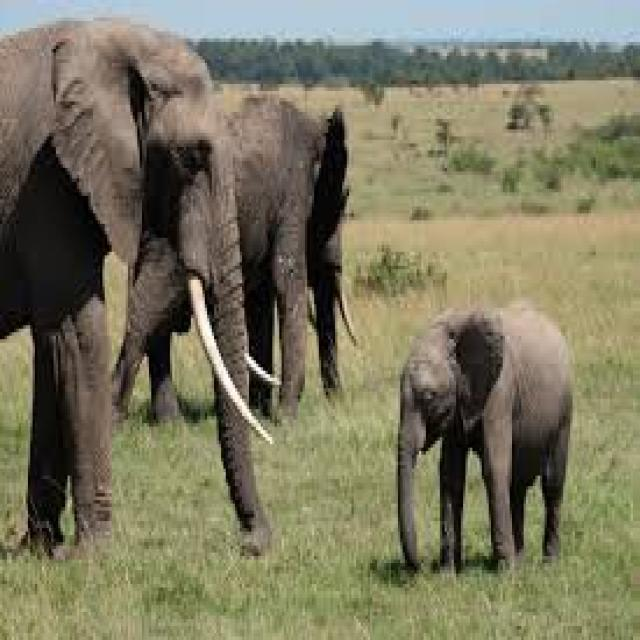Elephant: (0, 14, 279, 563), (107, 91, 358, 430), (396, 297, 572, 574)
